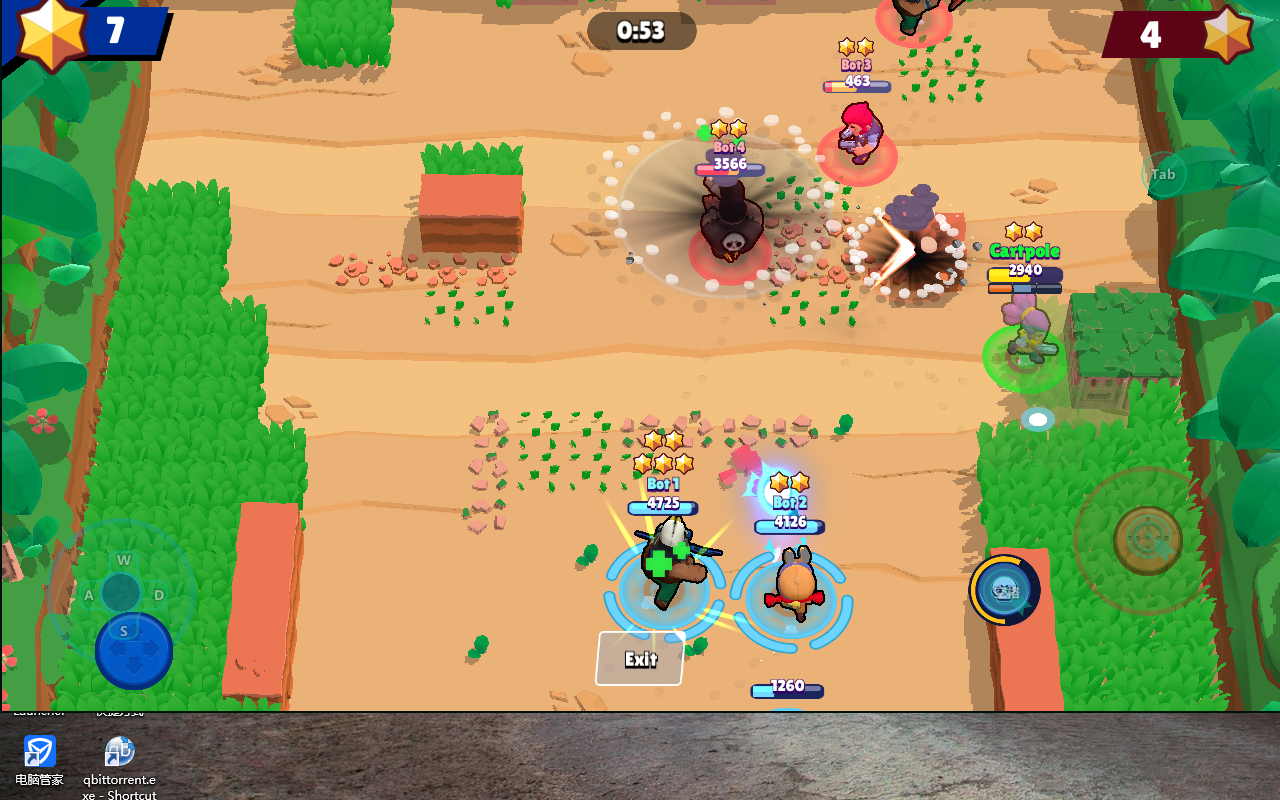current_player: (983, 324, 1069, 393)
